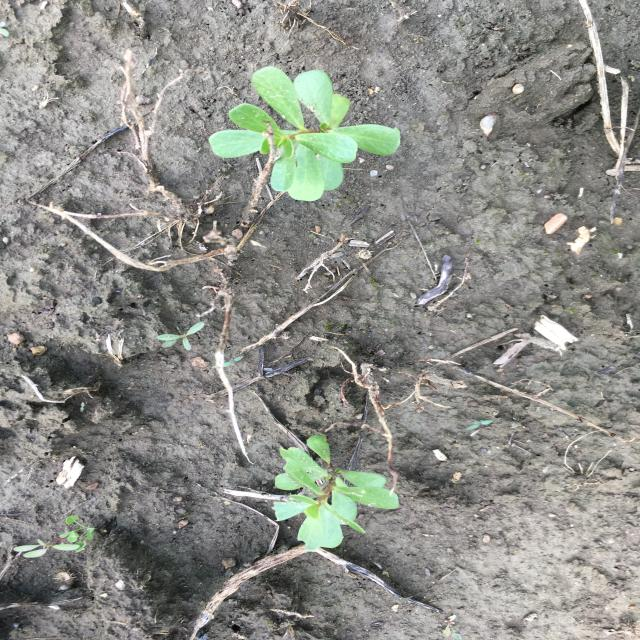Purslane: (208, 65, 402, 204), (270, 434, 402, 553)
